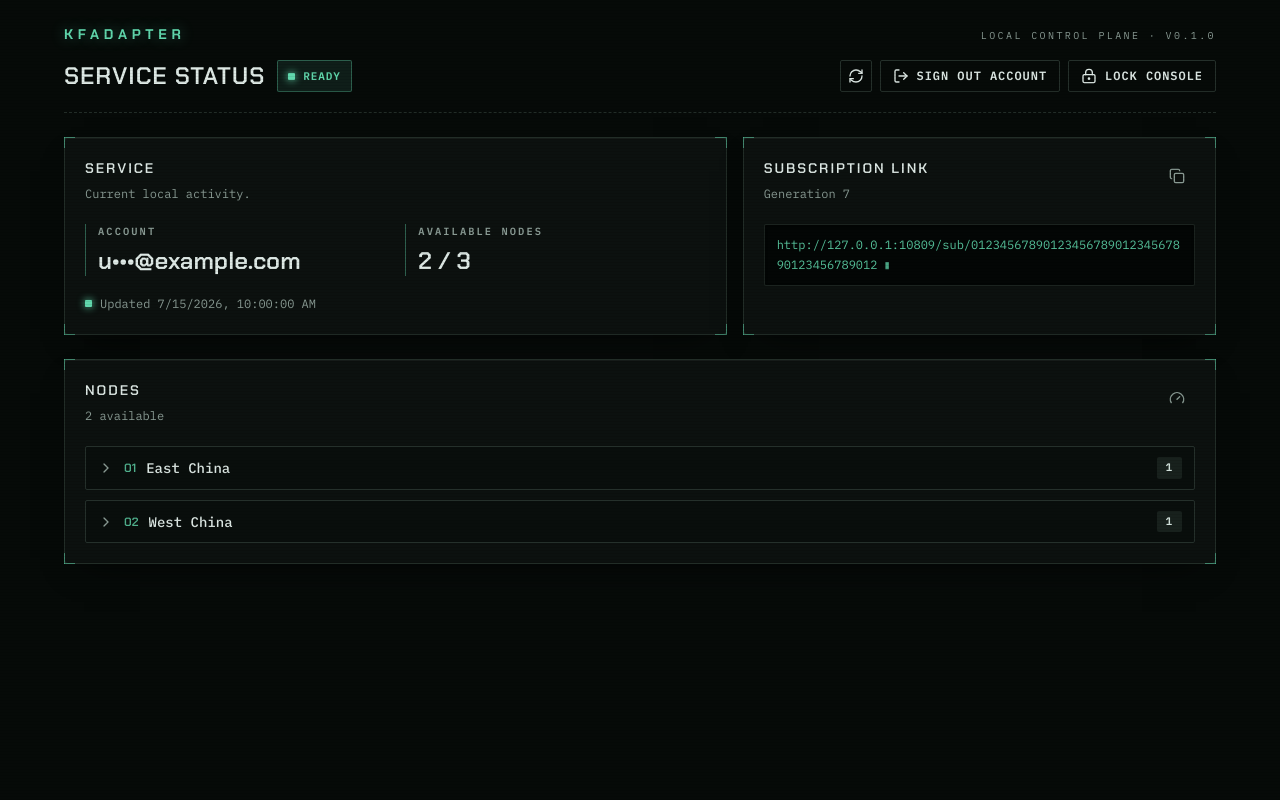
Test: node inventory › marks a failed probe as Timeout in the row instead of raising an alert
The image size is (1280, 800).
Expected: the heading "Service status" is shown, [64, 60, 265, 92]
Click the text "West China" at [190, 522], box [148, 512, 232, 530]
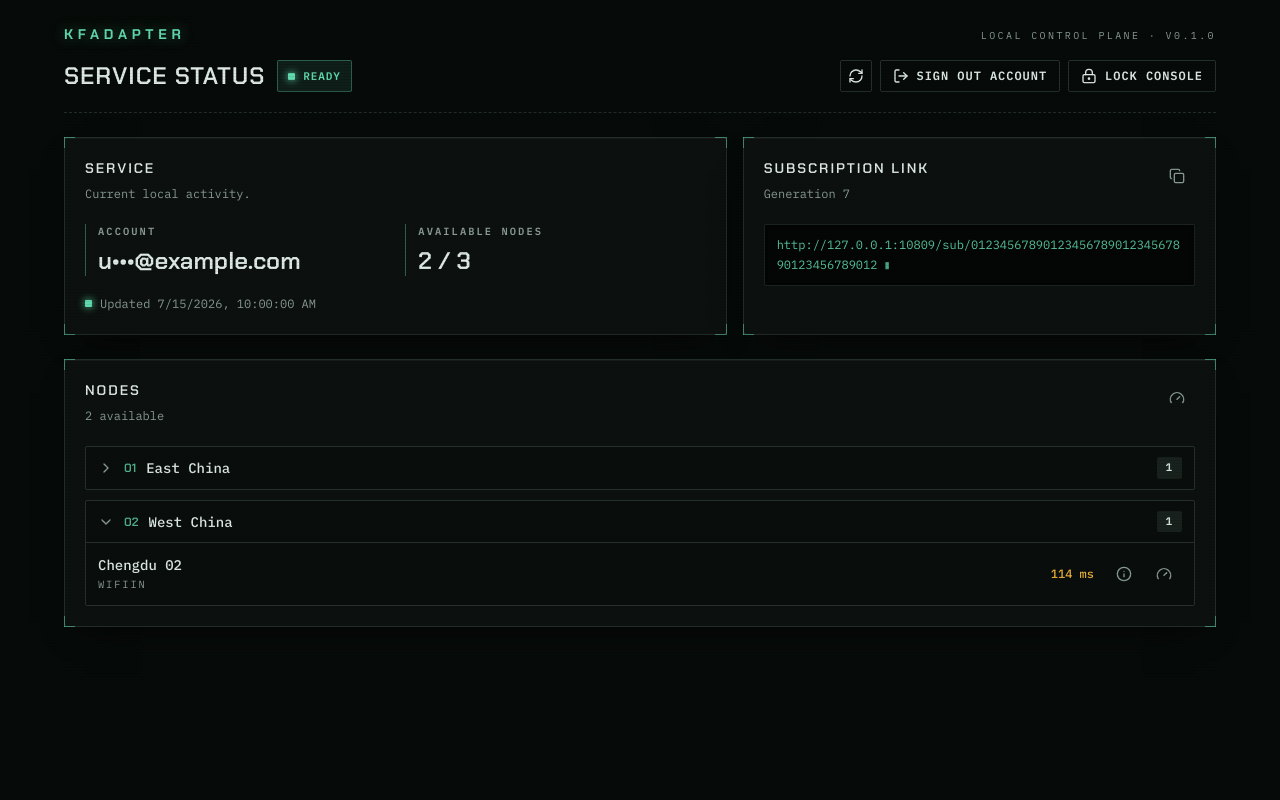
Result: the text named "Latency 114 ms, Degraded" is shown at [1051, 566, 1094, 582]
Click the button named "Probe Chengdu 02" at [1164, 574], box [1146, 556, 1182, 592]
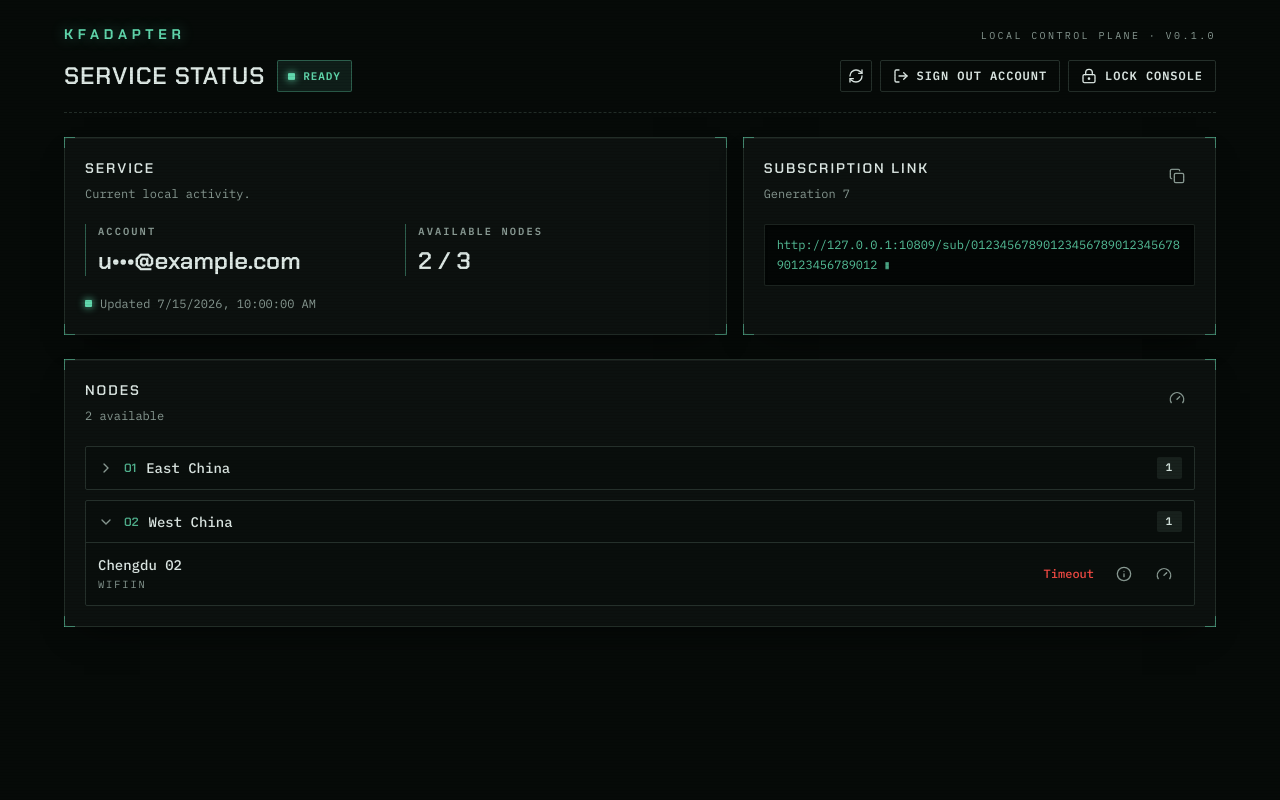
Result: the text named "Latency Timeout, Unhealthy" is shown at [1044, 566, 1094, 582]
Click the button named "Probe Chengdu 02" at [1164, 574], box [1146, 556, 1182, 592]
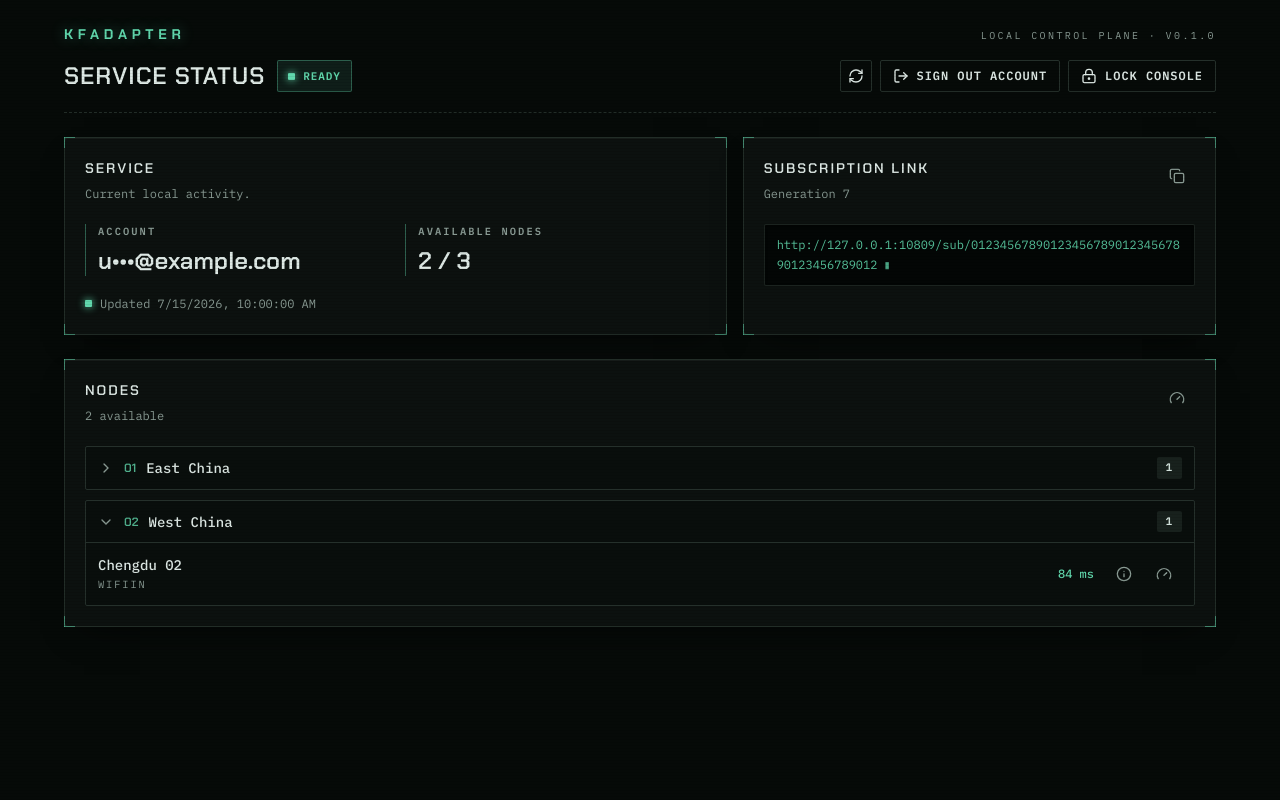
Result: the text named "Latency 84 ms, Healthy" is shown at [1058, 566, 1094, 582]
Result: the text "Timeout" is gone
